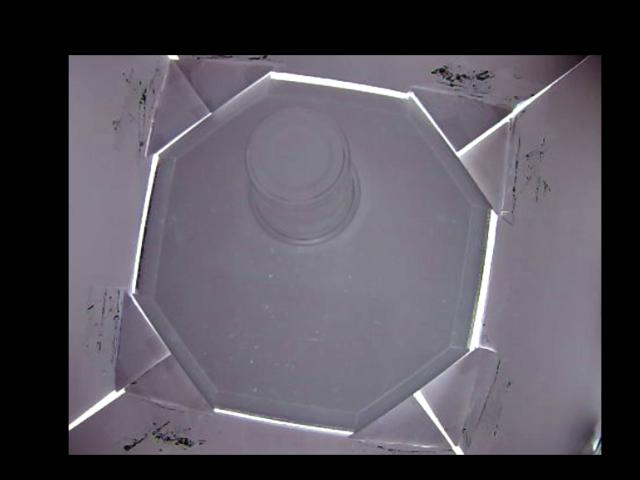Cup: (245, 106, 358, 243)
